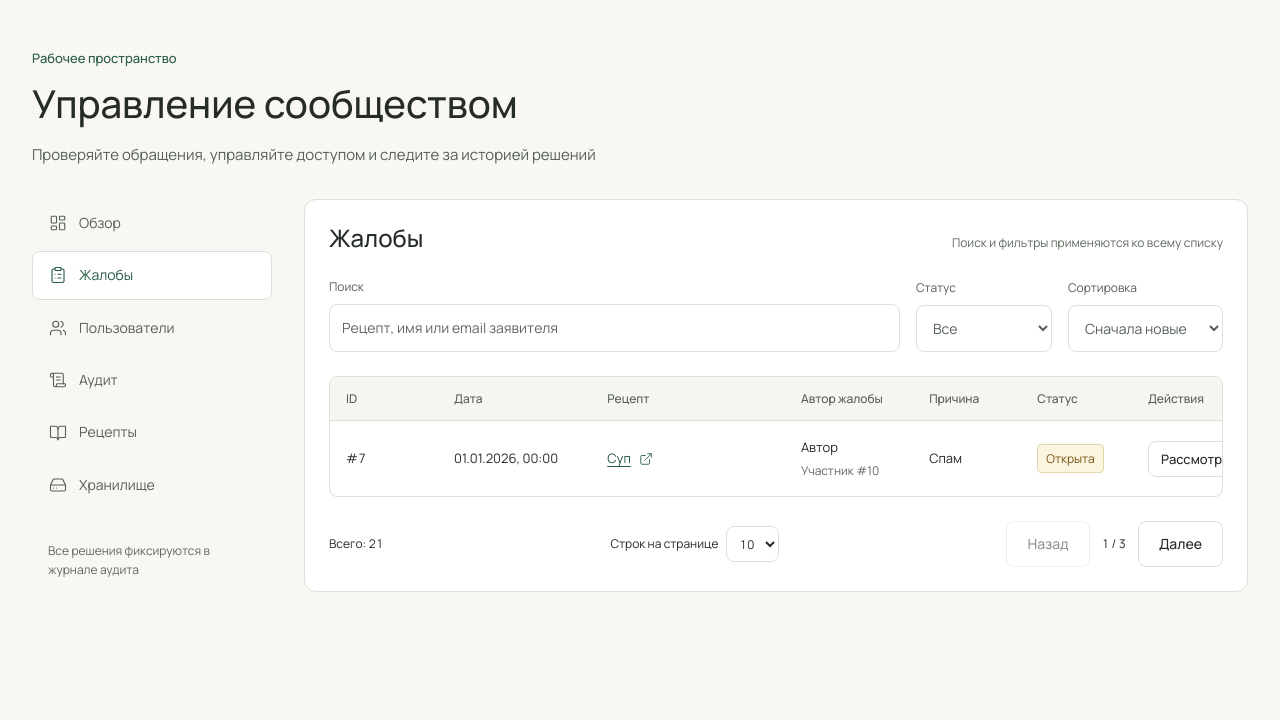
Test: показывает понятные события аудита и подробности
This screenshot has width=1280, height=720.
Expected: the button "Рассмотреть" is shown, [1148,441,1223,477]
Click the link "Аудит": (83, 380) [49,370,118,389]
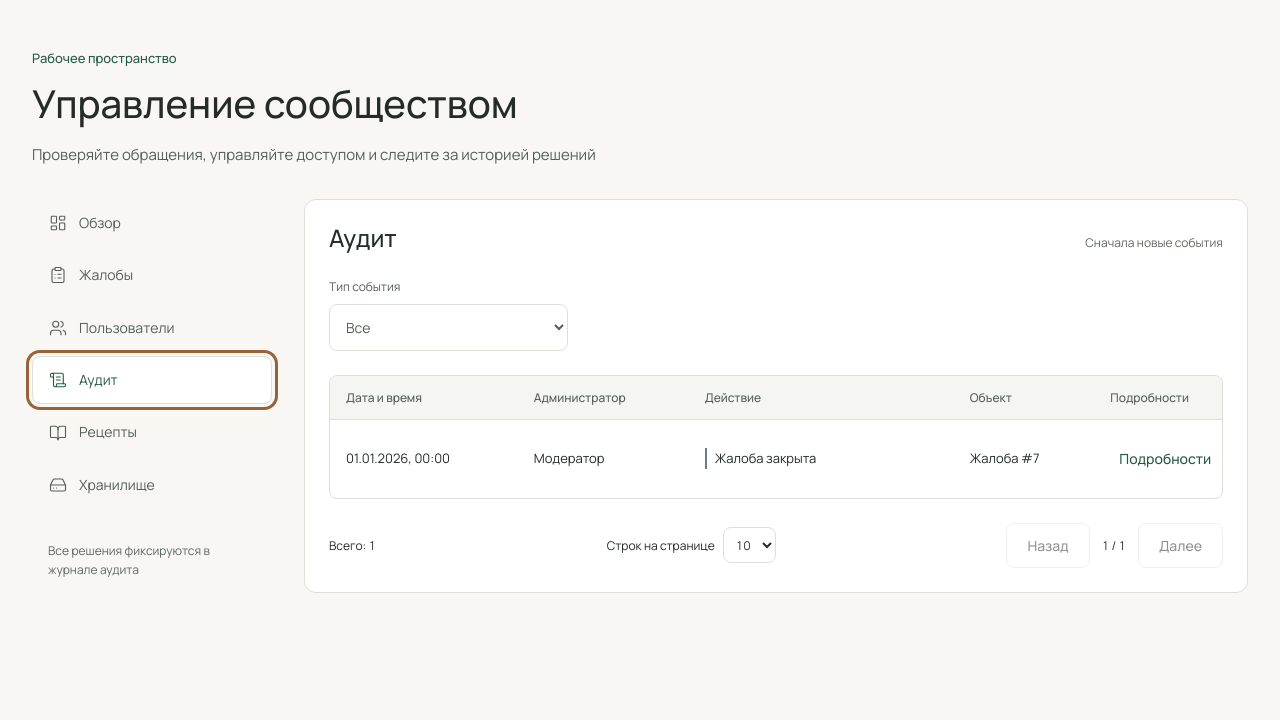
Result: the text "Модератор" is shown at [518,420,689,498]
Result: the text "Жалоба закрыта" is shown at [705,448,865,469]
Click the button "Подробности": (1165, 459) [1110,436,1220,482]
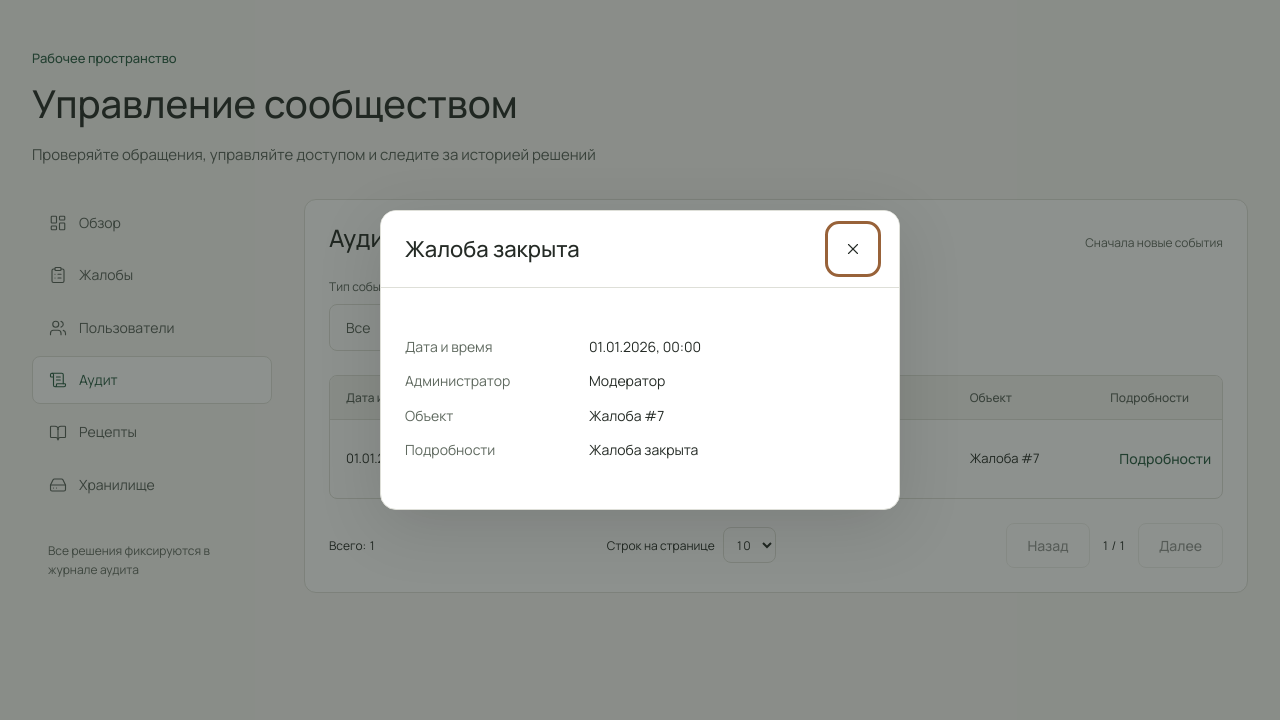
Result: the number of headings "Жалоба закрыта" is 2 at [405,236,580,262]; [589,440,698,459]
